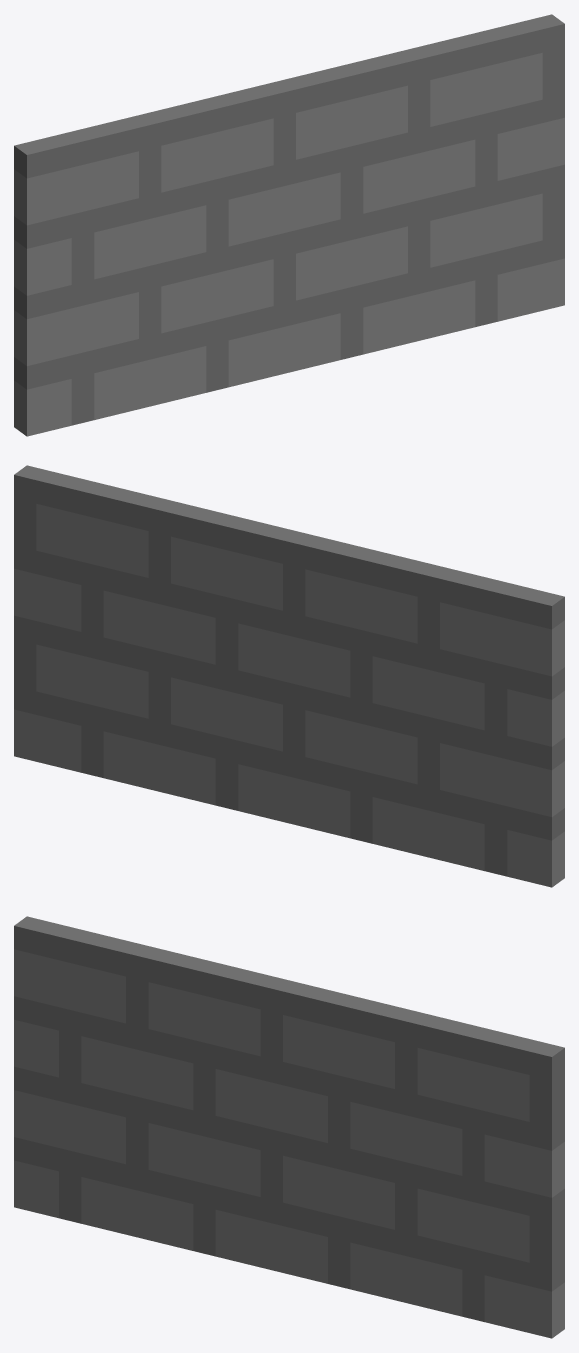
The model's file is wall01.fbx.
The picture shows the model from 3 angles, top to bottom: view 1: azimuth 30°, elevation 25°; view 2: azimuth 150°, elevation 25°; view 3: azimuth 330°, elevation 25°; orthographic projection.
Visible parts, largest first — view 1: Objekt; view 2: Objekt; view 3: Objekt.
Part boxes in pixels (x1,y1,x2,y2): Objekt: (14, 14, 564, 436); Objekt: (14, 465, 564, 887); Objekt: (14, 916, 564, 1338).
Bounding box in the file's own units: 24 × 12 × 1.
Materials: 1 (1 with a texture image).
